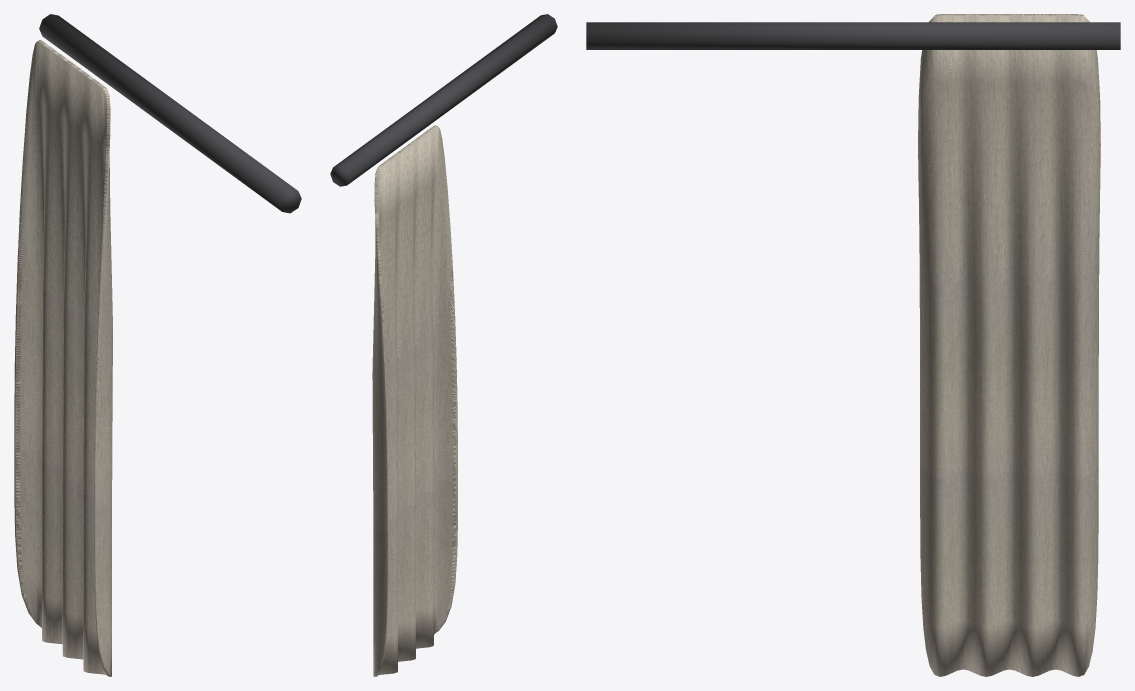
File: Curtain.fbx
3 renders of one model, left to right at view 1: azimuth 30°, elevation 25°; view 2: azimuth 150°, elevation 25°; view 3: azimuth 270°, elevation 25°, orthographic. The views are drawn at different scales.
Parts seen in each view (by area): view 1: Curtain, Cylinder; view 2: Curtain, Cylinder; view 3: Curtain, Cylinder.
Part boxes in pixels (bbox=[...]): Curtain: bbox=[14, 40, 112, 676]; Cylinder: bbox=[39, 14, 301, 213]; Curtain: bbox=[372, 125, 457, 676]; Cylinder: bbox=[330, 14, 557, 186]; Curtain: bbox=[918, 14, 1100, 676]; Cylinder: bbox=[586, 22, 1120, 49].
Size of the model in its own units: 15.1 by 150 by 109.
